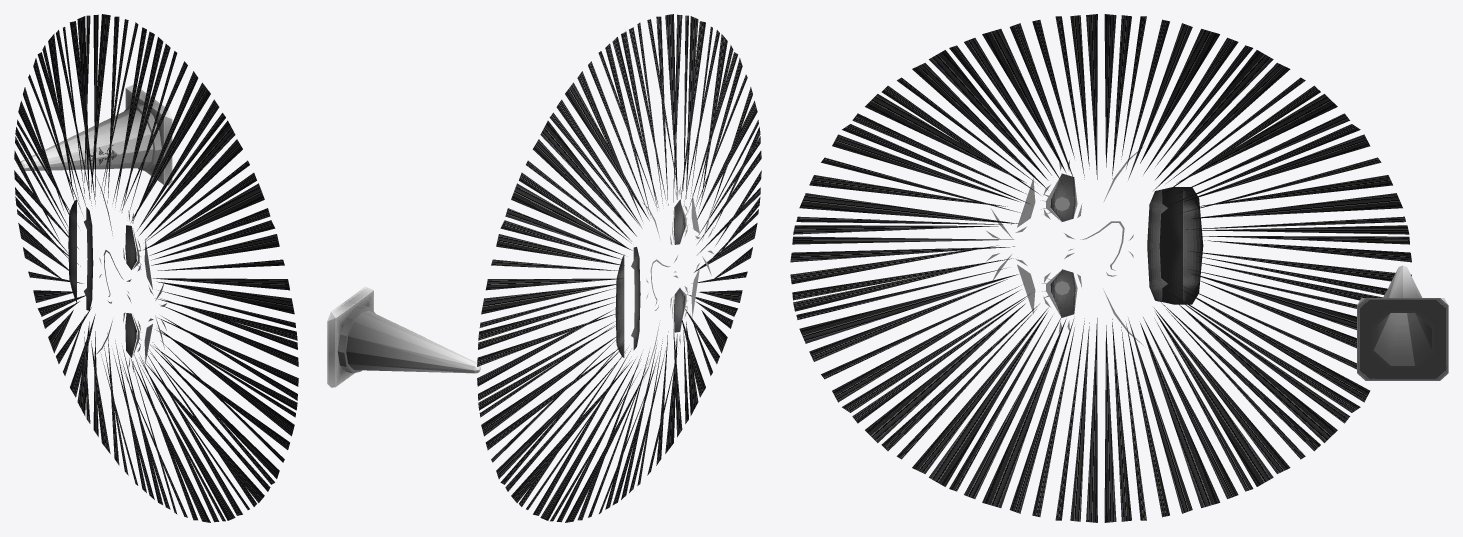
The model's file is arms5051.obj.
3 renders of one model, left to right at view 1: azimuth 30°, elevation 25°; view 2: azimuth 150°, elevation 25°; view 3: azimuth 270°, elevation 25°, orthographic. The views are drawn at different scales.
Parts seen in each view (by area): view 1: arms5051; view 2: arms5051; view 3: arms5051.
Part boxes in pixels (left/top/right/bottom): arms5051: left=14, top=14, right=298, bottom=522; arms5051: left=327, top=14, right=761, bottom=522; arms5051: left=790, top=14, right=1448, bottom=522.
Size of the model in its own units: 1.4 by 3.45 by 4.05.
2 materials, 2 textured.
